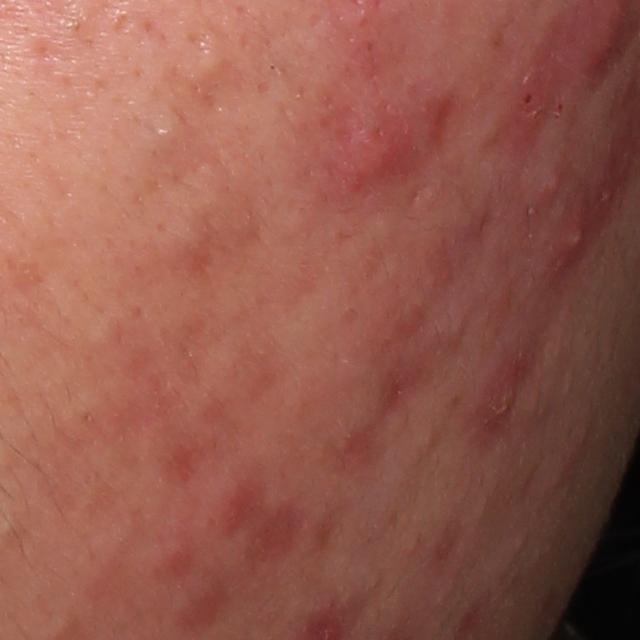comedo: (138, 110, 187, 151), (193, 47, 229, 80), (47, 609, 71, 640)
papule: (315, 68, 443, 213), (464, 335, 533, 443), (544, 188, 604, 297), (197, 451, 267, 543), (367, 279, 432, 362), (144, 524, 200, 594), (162, 571, 220, 638), (524, 157, 576, 214)
